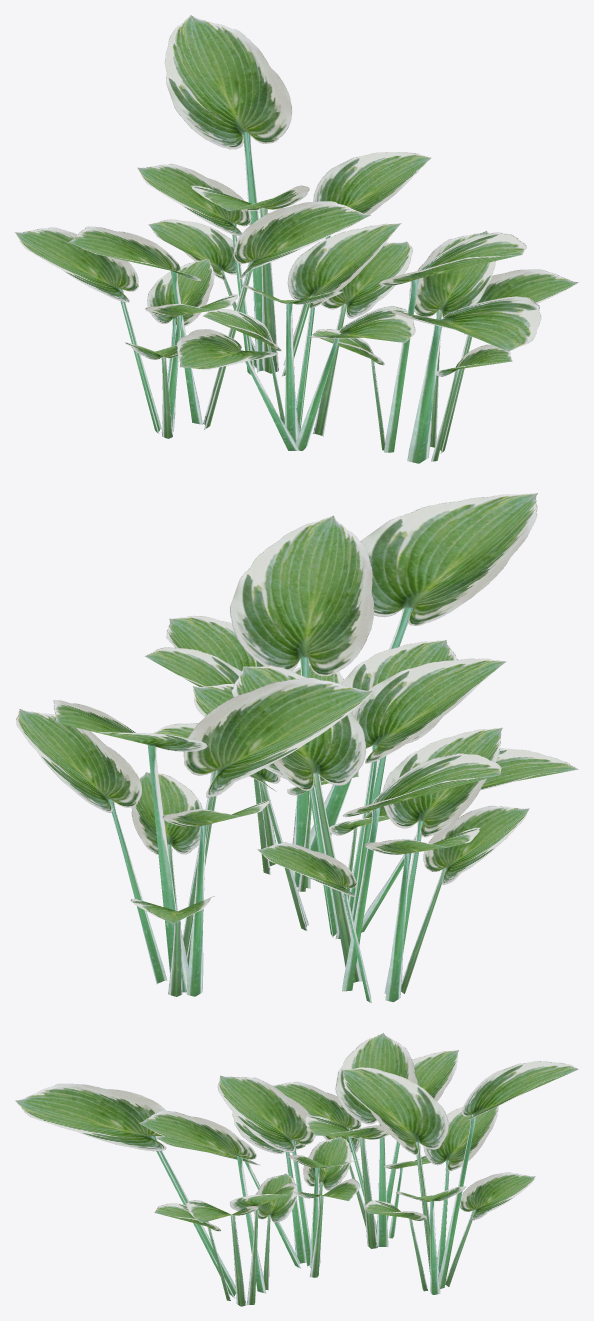
The model's file is plant_small_wg_05AA.fbx.
3 renders of one model, top to bottom at view 1: azimuth 30°, elevation 25°; view 2: azimuth 150°, elevation 25°; view 3: azimuth 270°, elevation 25°, orthographic. The views are drawn at different scales.
Visible parts, largest first — view 1: plant_small_wg_05AA; view 2: plant_small_wg_05AA; view 3: plant_small_wg_05AA.
Part boxes in pixels (<box>): plant_small_wg_05AA: <box>15,15,578,463</box>; plant_small_wg_05AA: <box>16,493,578,1003</box>; plant_small_wg_05AA: <box>15,1033,578,1306</box>.
Size of the model in its own units: 69.02 by 46.57 by 107.
